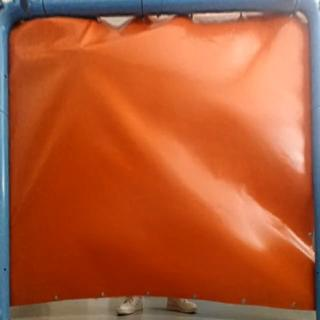Hit-hRxx: (72, 43, 90, 58)
